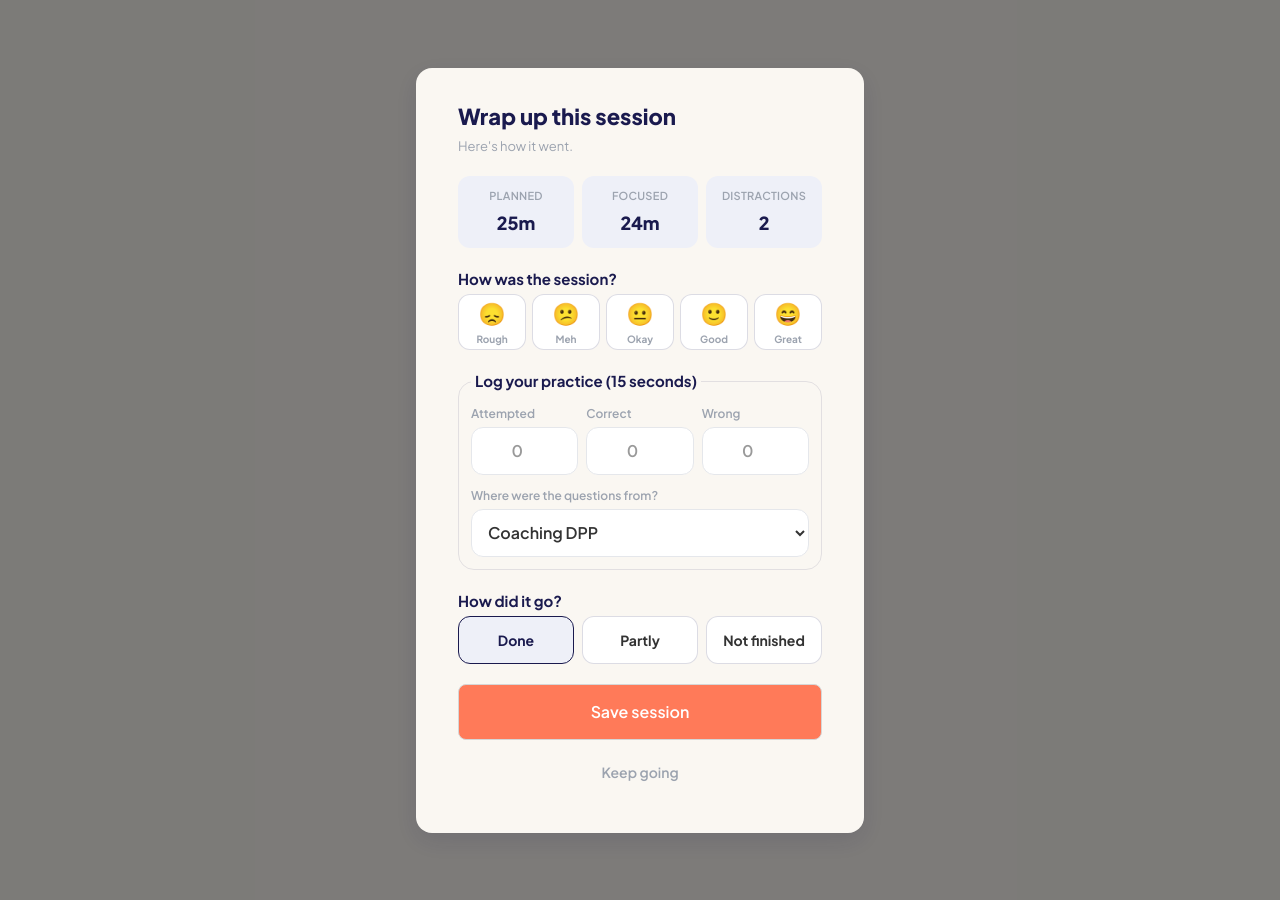
Test: FocusSummaryModal › an empty sheet sends nothing; an impossible one cannot be saved
The width and height of the screenshot is (1280, 900).
Click the button with test id "save-session".
click(640, 712)  # box top-left (458, 684), bottom-right (822, 740)
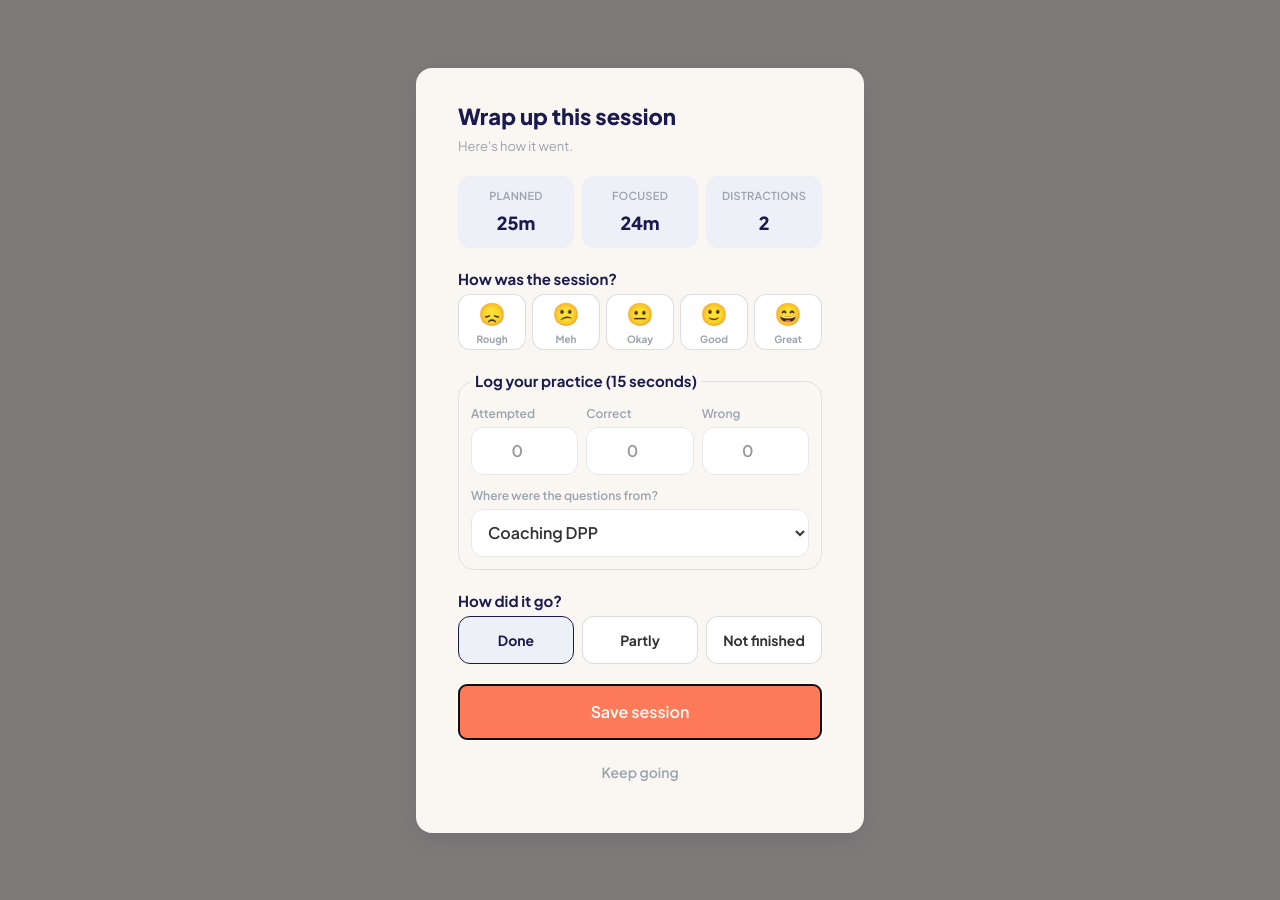
Type "5" into the number field with test id "sheet-attempted".
click(525, 450); type("5")  # box top-left (471, 426), bottom-right (578, 474)
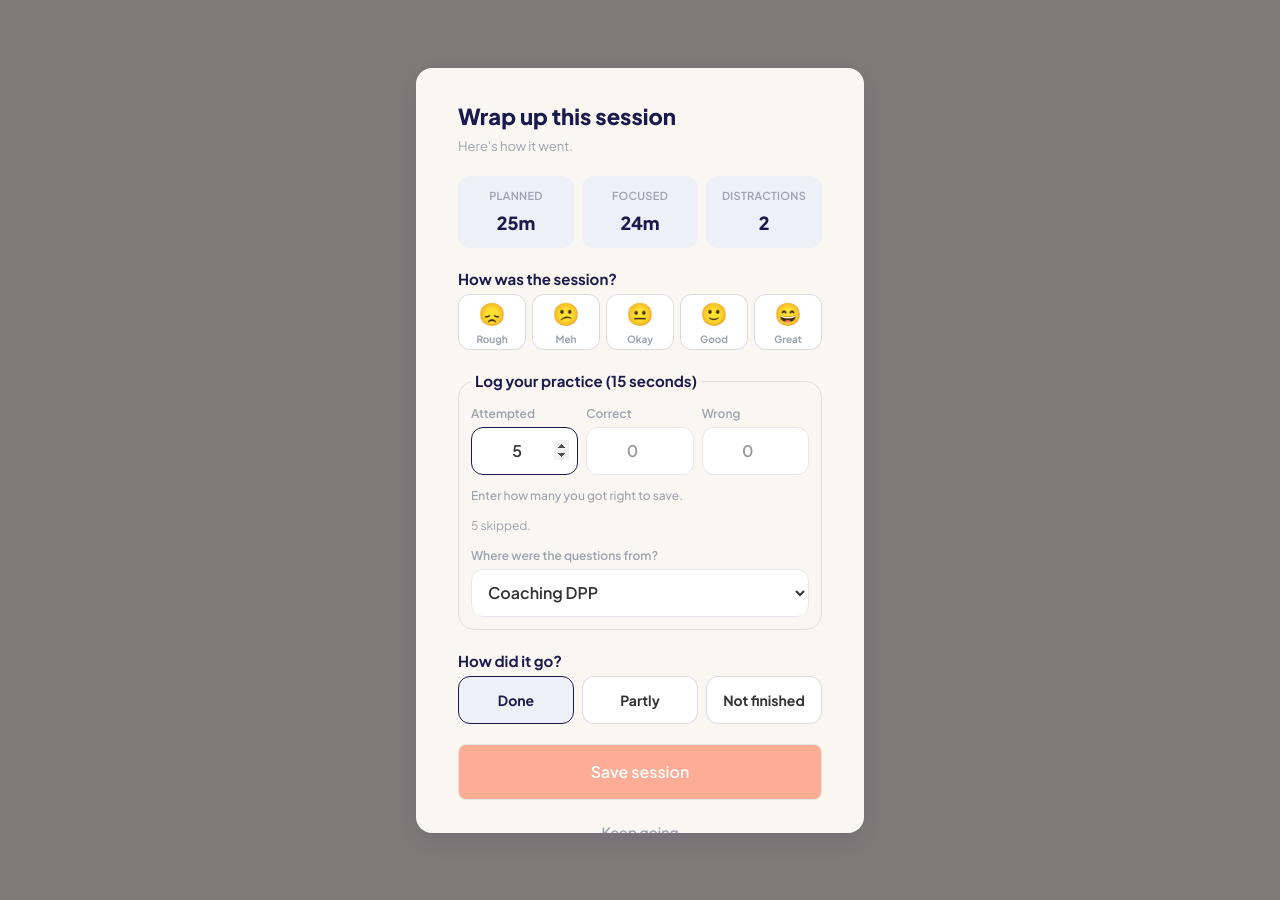
Type "4" into the number field with test id "sheet-correct".
click(640, 450); type("4")  # box top-left (586, 426), bottom-right (694, 474)
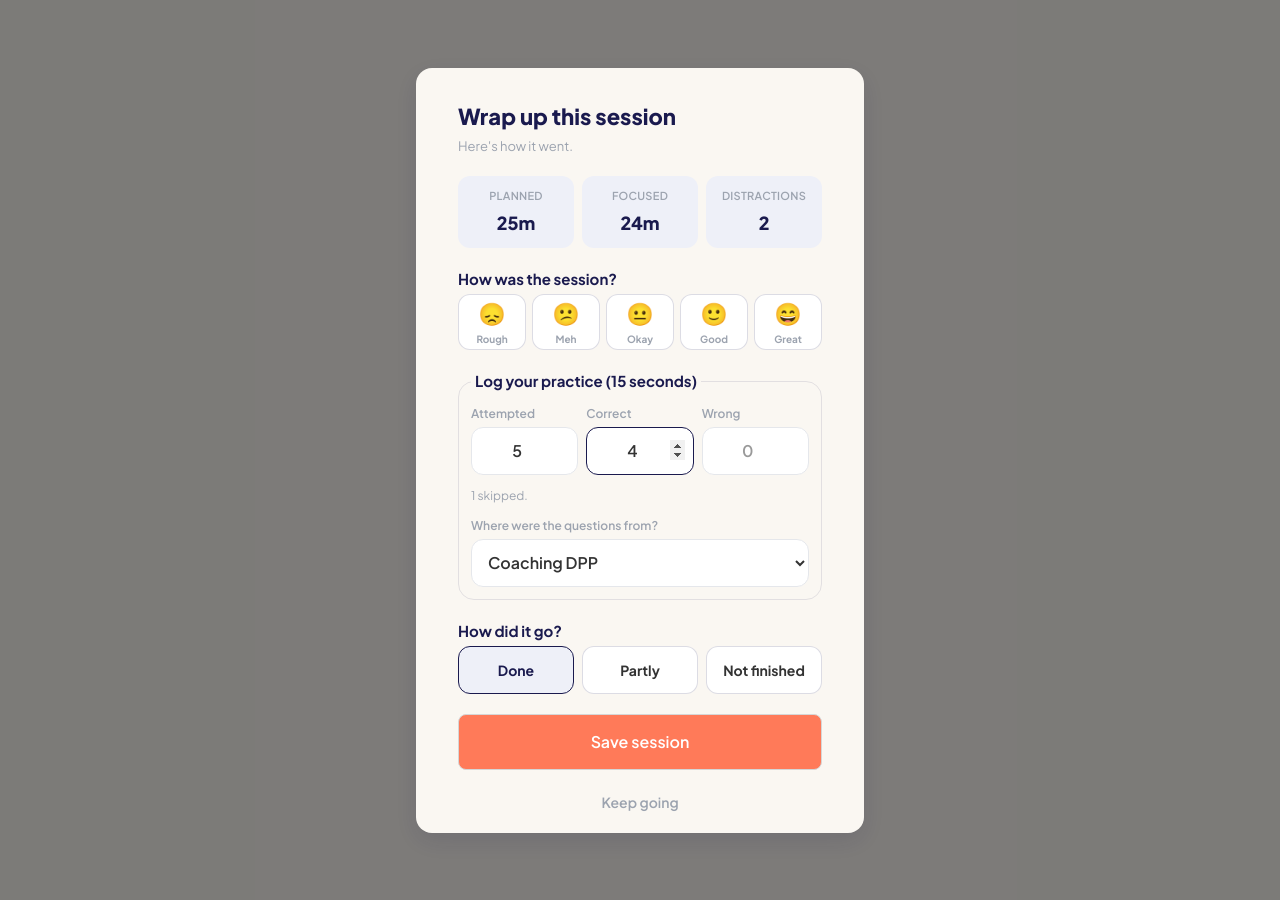
Type "3" into the number field with test id "sheet-wrong".
click(755, 450); type("3")  # box top-left (702, 426), bottom-right (809, 474)
(page scrolled)
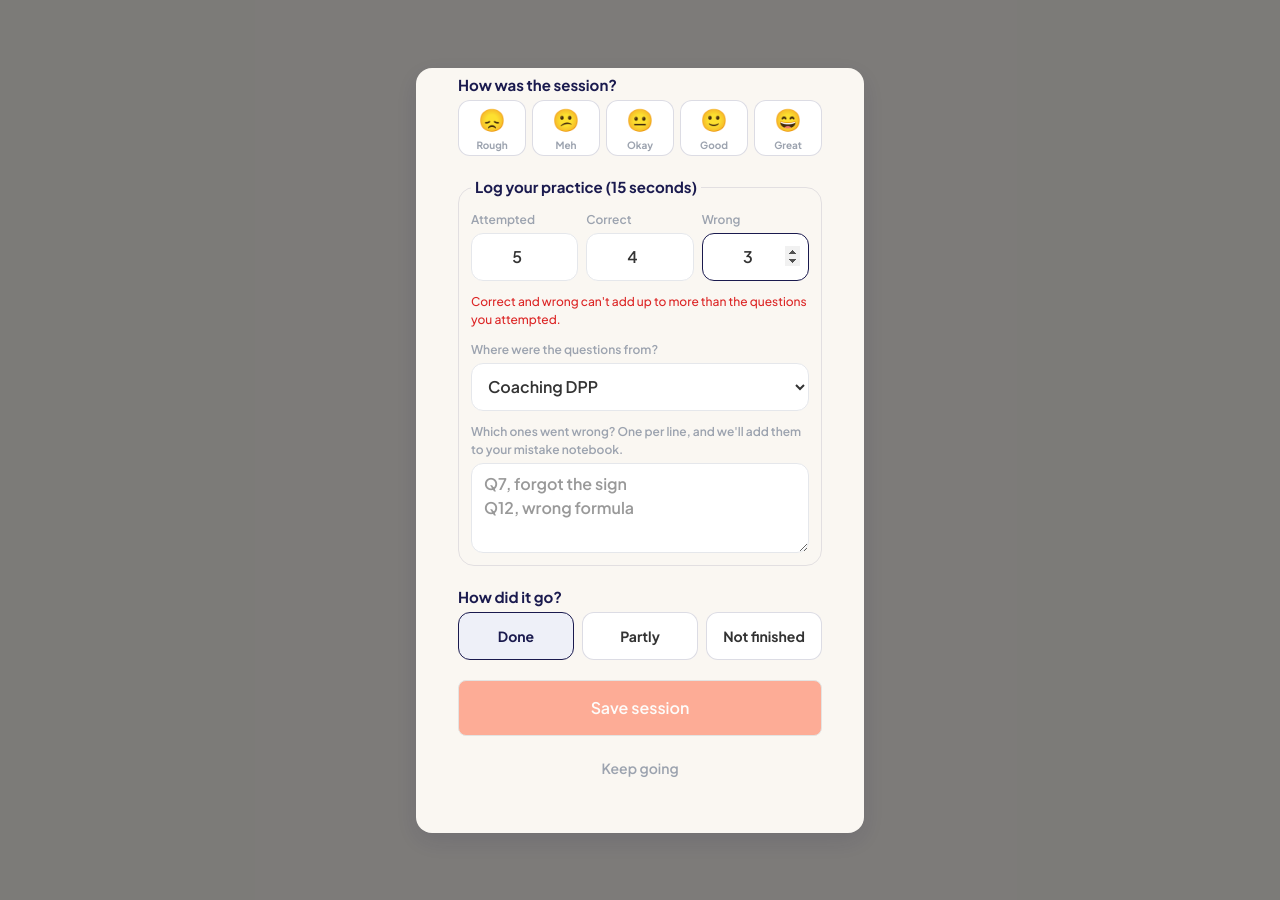
Check: the message with test id "sheet-problem" shows "can't add up to more than", box top-left (471, 294), bottom-right (807, 326)
Check: the button with test id "save-session" is disabled, box top-left (458, 680), bottom-right (822, 736)
